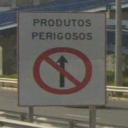NoSeguir: (31, 45, 94, 95)
